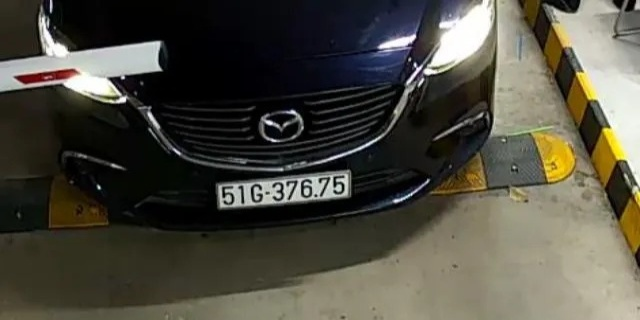bien_so: (218, 174, 349, 205)
